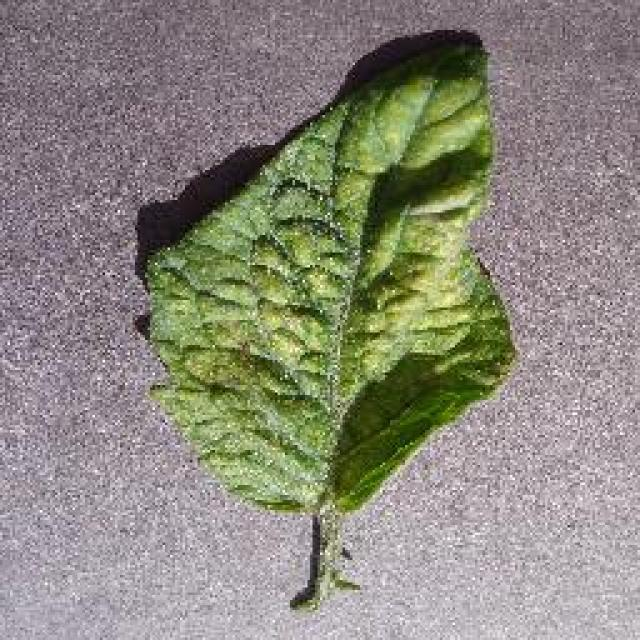Tomato___Spider_mites Two-spotted_spider_mite: (148, 45, 512, 608)
